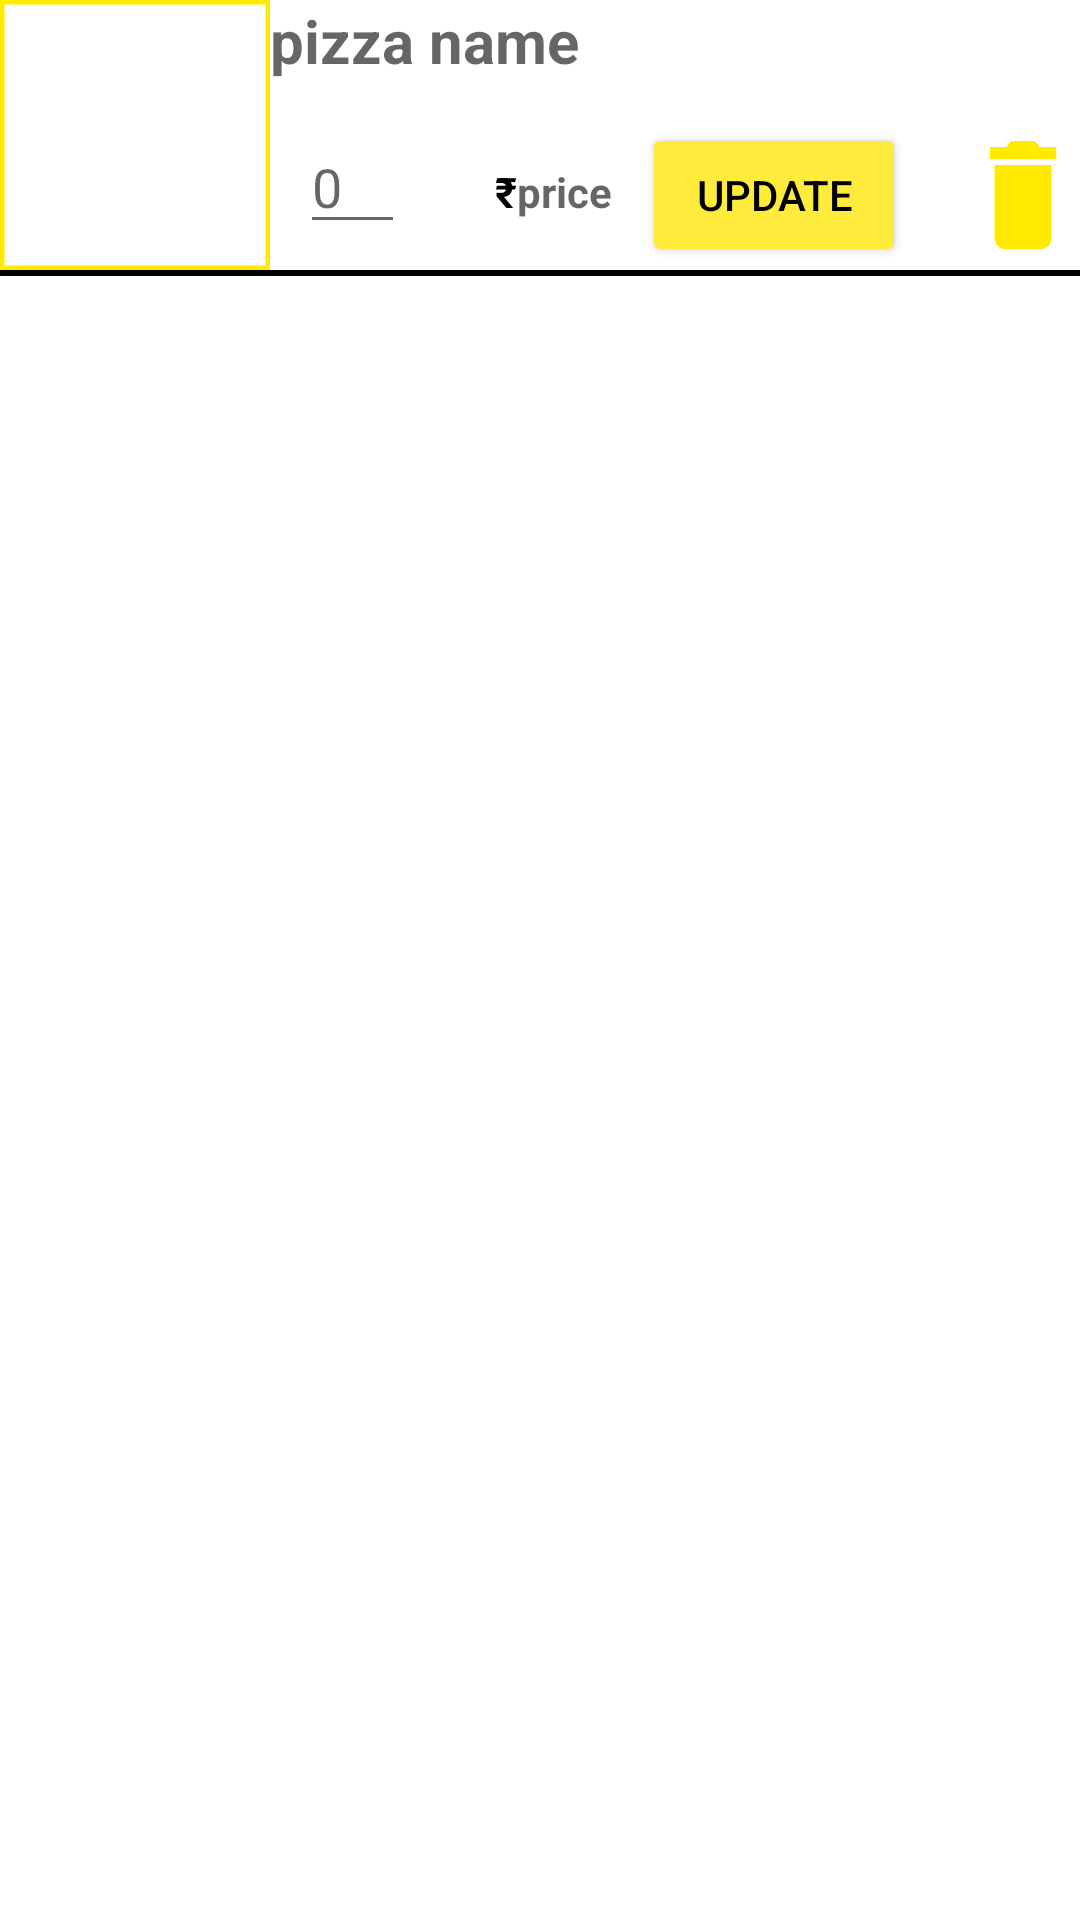

Screen size 1080*1920. Icon name, then its box in pixels as (x1, y1, x2, y2):
delete: (989, 141, 1057, 249)
